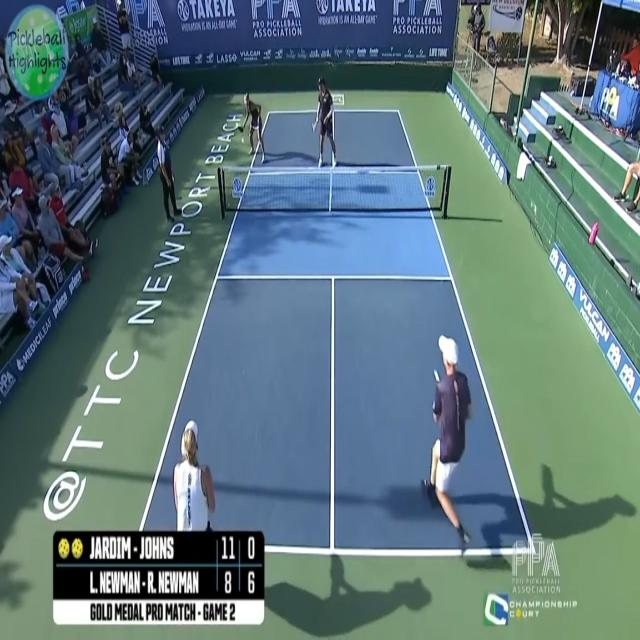ball: (238, 128, 249, 151)
